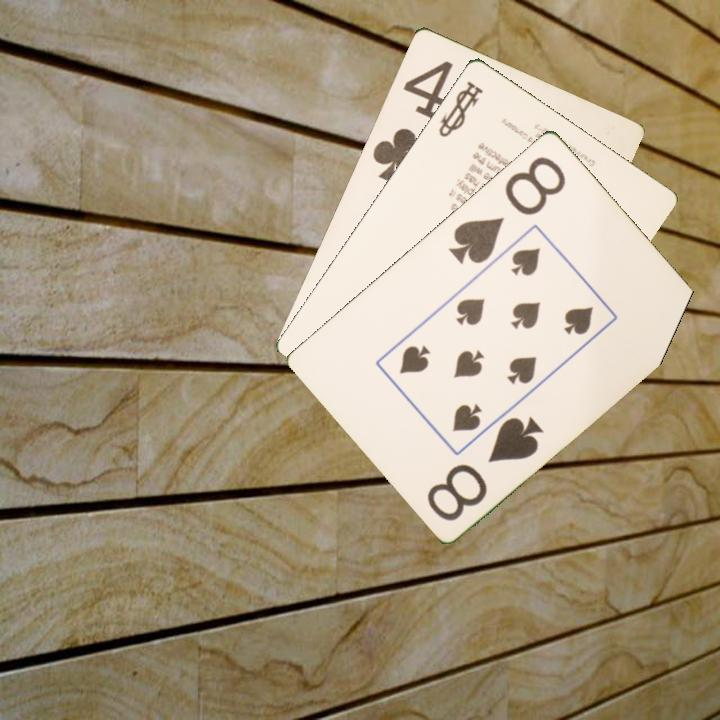4c: (368, 56, 456, 186)
8s: (445, 152, 569, 267), (423, 412, 547, 524)
JK: (434, 77, 486, 140)
